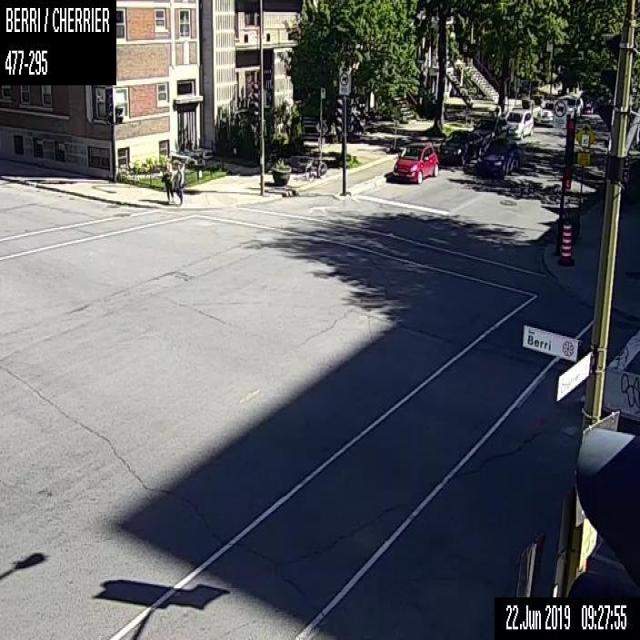construction: (561, 219, 570, 257)
pedestrian: (161, 161, 173, 201), (173, 164, 183, 204)
vehicle: (393, 141, 437, 182), (476, 138, 519, 176), (438, 129, 481, 165), (472, 117, 508, 151), (505, 108, 533, 140), (536, 101, 554, 125), (562, 95, 582, 116)
